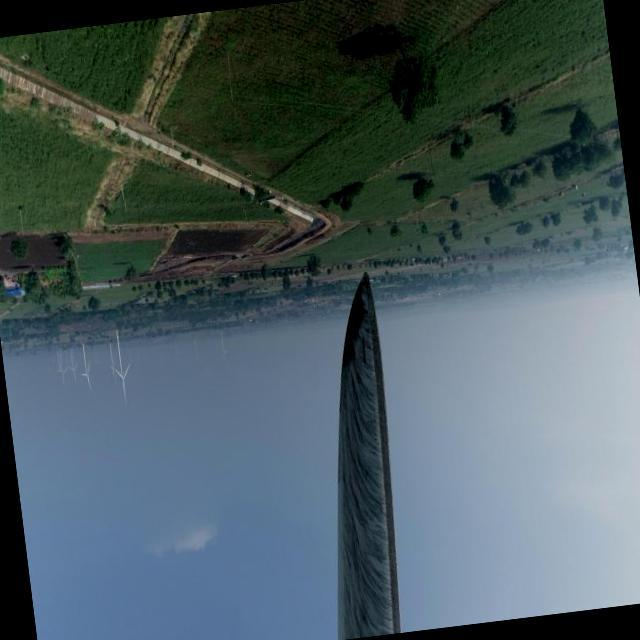Dirt: (335, 271, 398, 640)
Oil LEAKAGE: (340, 280, 373, 374)
Pin Hole: (360, 306, 374, 320)
